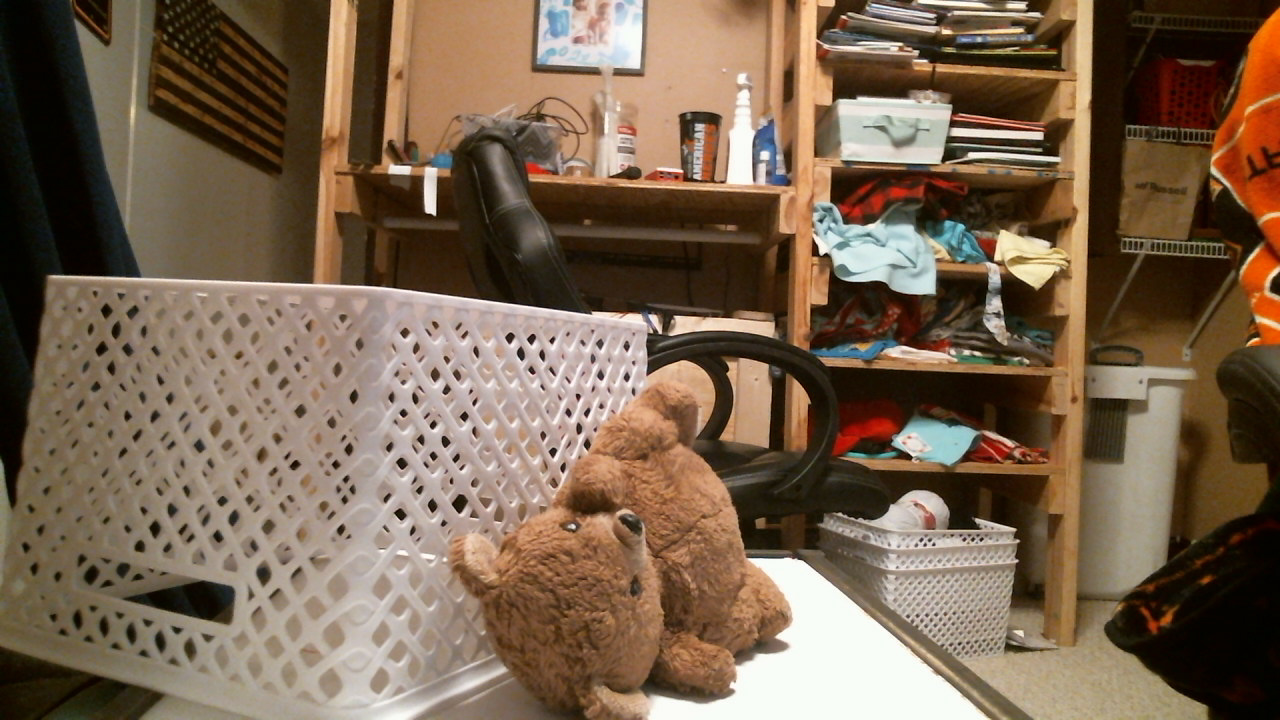Little_Mister_Bear: (563, 514, 663, 617)
